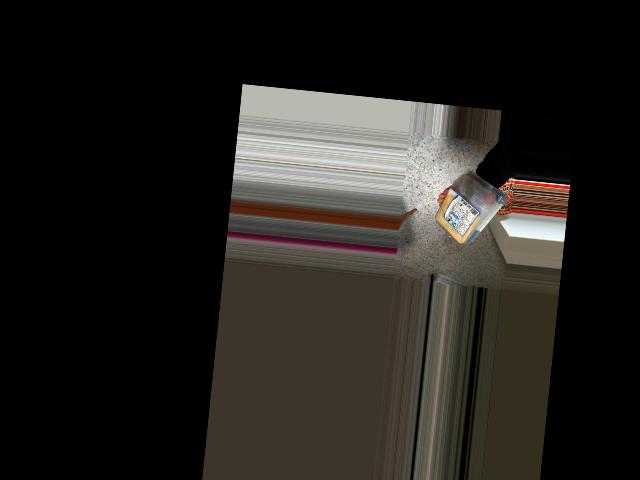cheese: (434, 174, 499, 245)
